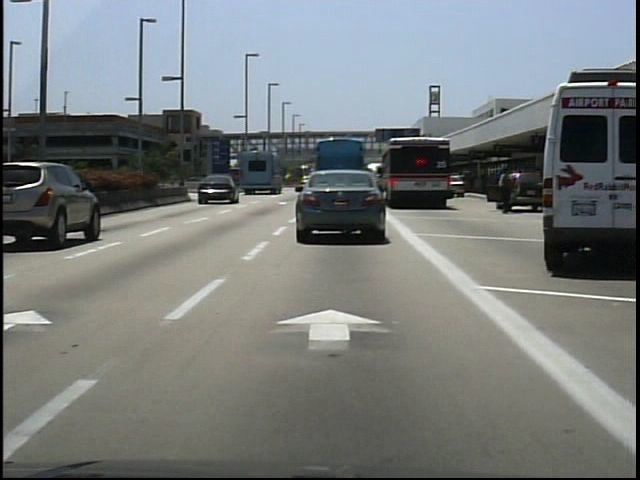person: (494, 166, 516, 218)
